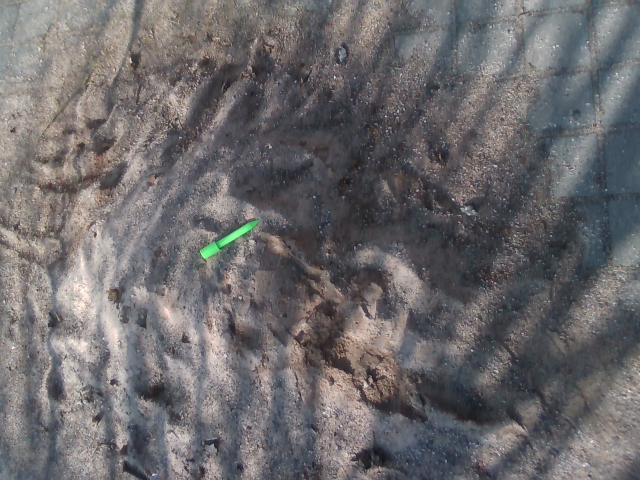Probe: (196, 213, 262, 263)
